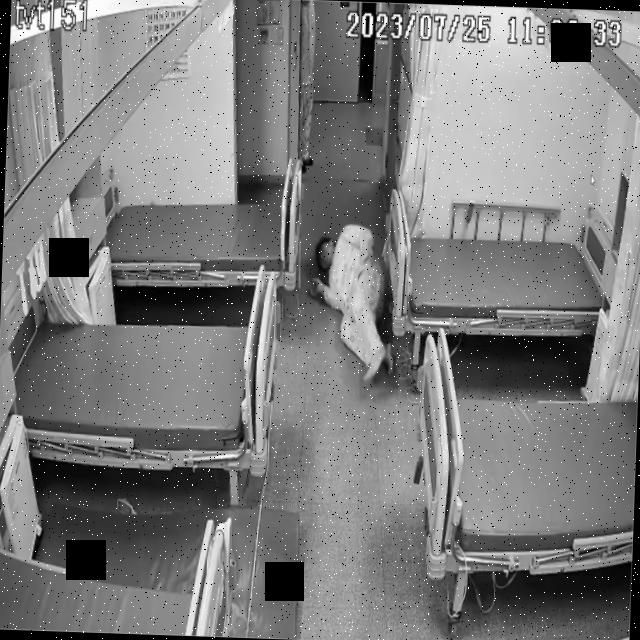bed: (412, 328, 640, 580), (9, 307, 278, 469), (382, 215, 620, 342), (106, 185, 298, 290)
fall: (303, 221, 397, 392)
patient: (303, 218, 397, 392)
